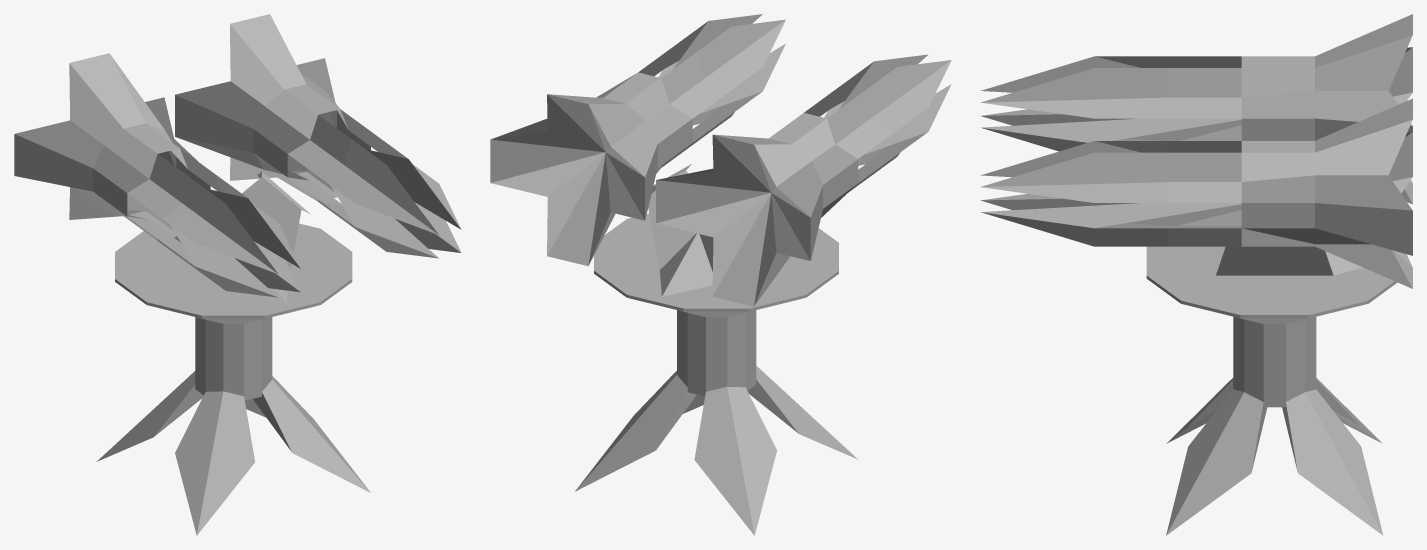
The model's file is railgun.gltf.
The picture shows the model from 3 angles, left to right: view 1: azimuth 30°, elevation 25°; view 2: azimuth 150°, elevation 25°; view 3: azimuth 270°, elevation 25°; orthographic projection. The views are drawn at different scales.
Visible parts, largest first — view 1: cylinder (×3), cone, Platform, pyramid; view 2: cylinder (×3), cone, Platform, pyramid; view 3: cylinder (×3), cone, Platform, pyramid.
Part boxes in pixels (x1,y1,x2,y2): cylinder (×3): [14, 14, 461, 400]; cone: [96, 371, 370, 535]; Platform: [115, 223, 352, 323]; pyramid: [174, 171, 310, 303]; cylinder (×3): [490, 14, 951, 396]; cone: [575, 366, 857, 535]; Platform: [594, 213, 838, 317]; pyramid: [648, 164, 713, 296]; cylinder (×3): [980, 14, 1412, 407]; cone: [1166, 378, 1383, 535]; Platform: [1146, 246, 1397, 323]; pyramid: [1161, 246, 1362, 275].
Bounding box in the file's own units: 0.447 × 0.5396 × 0.5.
1 material, 1 textured.
